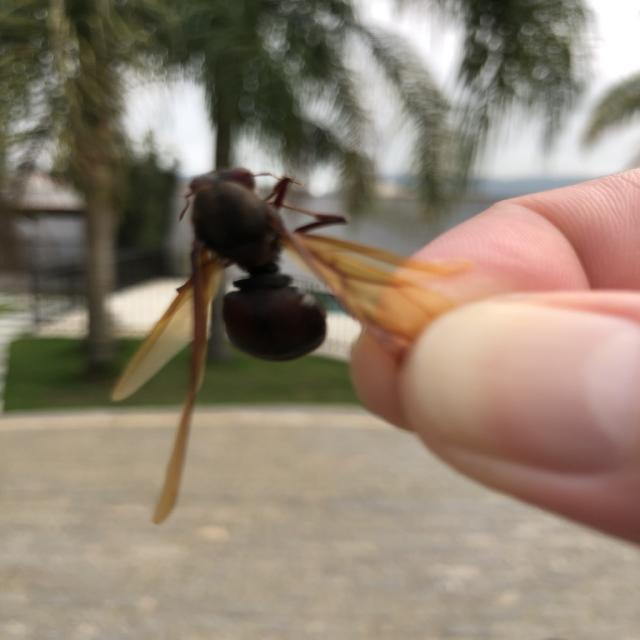Dead-Female-Alate: (111, 167, 484, 525)
